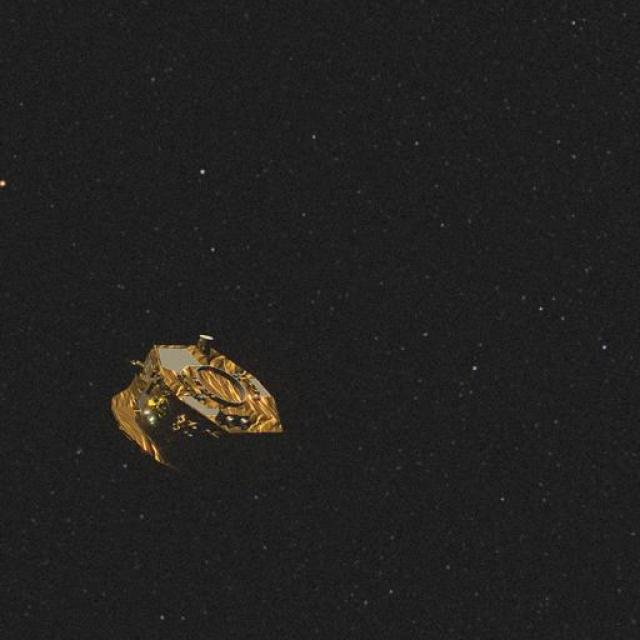lisa_pathfinder: (85, 317, 303, 488)
